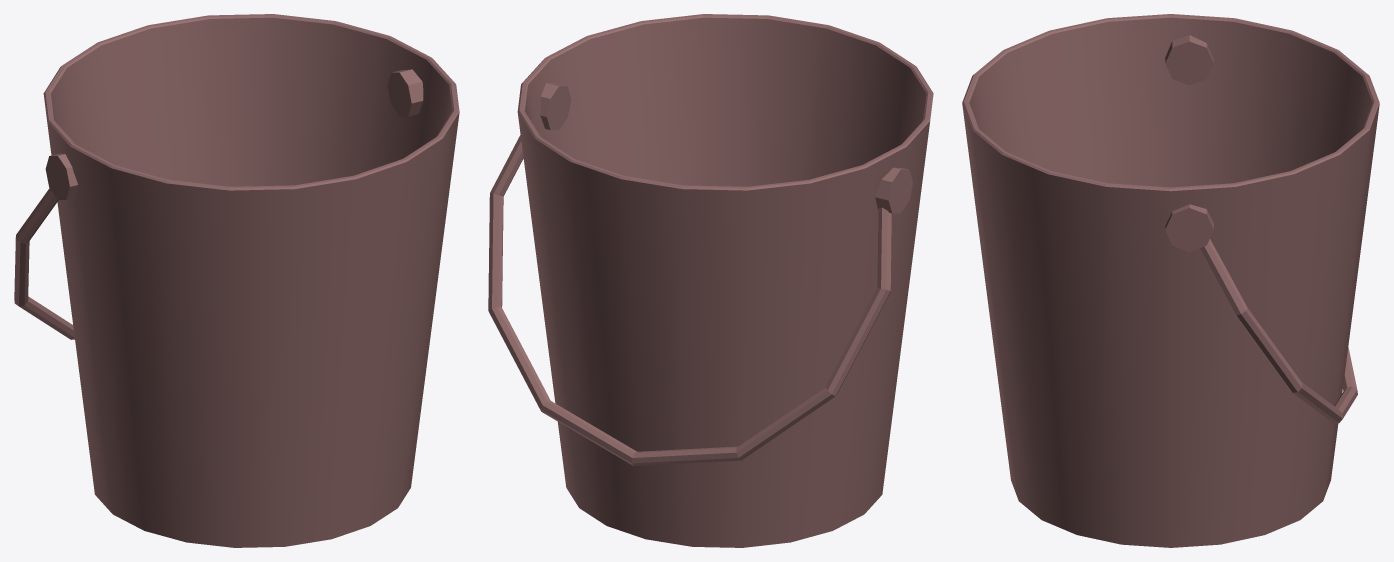
The model's file is BucketGeo.fbx.
3 renders of one model, left to right at view 1: azimuth 30°, elevation 25°; view 2: azimuth 150°, elevation 25°; view 3: azimuth 270°, elevation 25°, orthographic.
Visible parts, largest first — view 1: BucketGeo; view 2: BucketGeo; view 3: BucketGeo.
Boxes of the visible parts, x1,y1,x2,y2 form: BucketGeo: (14, 14, 459, 547); BucketGeo: (488, 14, 933, 547); BucketGeo: (962, 14, 1379, 547).
Size of the model in its own units: 71.88 by 65.09 by 65.02.
